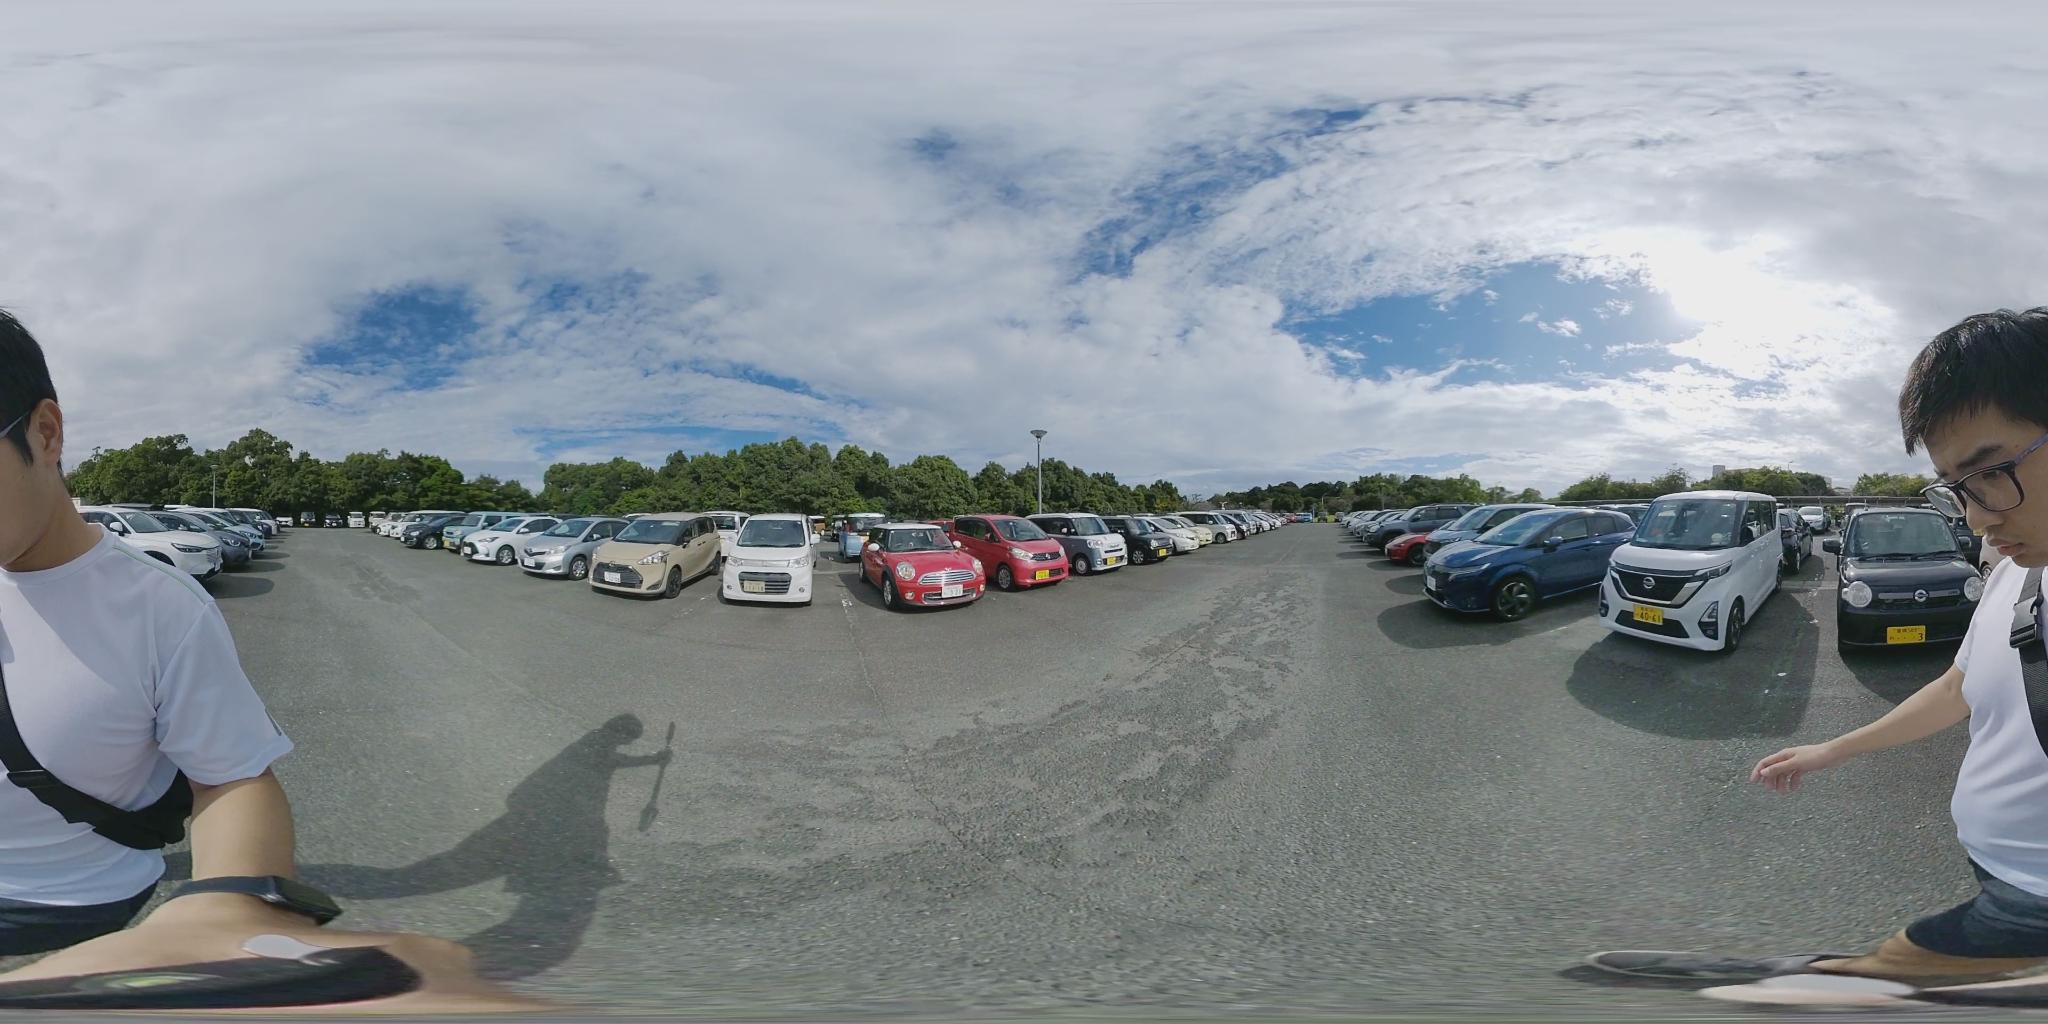car: (1599, 492, 1797, 653), (1417, 512, 1639, 623), (1836, 504, 1993, 653), (585, 516, 730, 600), (856, 525, 993, 613), (88, 505, 234, 585), (939, 516, 1079, 589), (1384, 504, 1545, 562), (725, 515, 818, 606), (1025, 515, 1143, 572), (516, 519, 624, 576), (452, 513, 556, 562), (1126, 516, 1206, 560), (1147, 513, 1232, 552), (204, 511, 274, 555), (385, 516, 462, 549), (1172, 513, 1250, 545)
